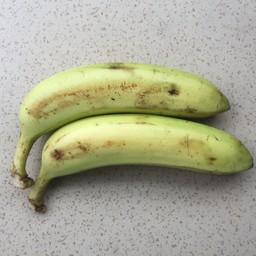Good_banana: (15, 60, 236, 124), (32, 117, 256, 176)
